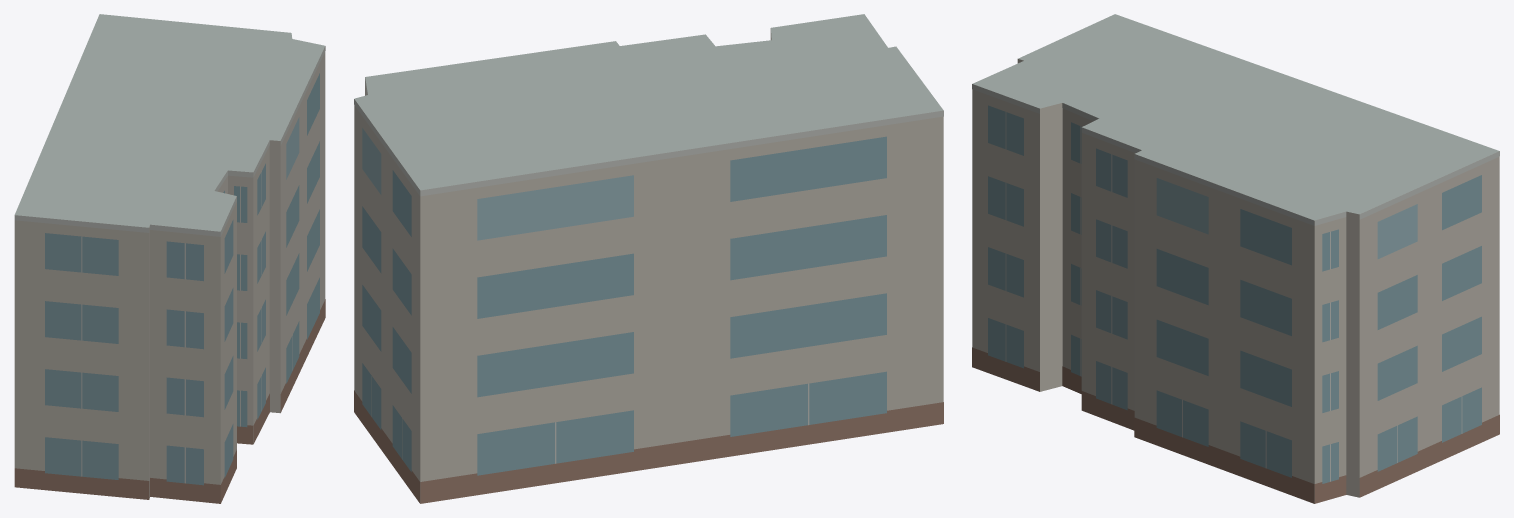
File: survey-upis-32971170.glb
The picture shows the model from 3 angles, left to right: view 1: azimuth 30°, elevation 25°; view 2: azimuth 150°, elevation 25°; view 3: azimuth 270°, elevation 25°; orthographic projection. The views are drawn at different scales.
Visible parts, largest first — view 1: survey-upis-32971170.tmp; view 2: survey-upis-32971170.tmp; view 3: survey-upis-32971170.tmp.
Part boxes in pixels (box(x1,y1,x2,y2)): survey-upis-32971170.tmp: box(14, 14, 325, 503); survey-upis-32971170.tmp: box(354, 14, 943, 503); survey-upis-32971170.tmp: box(972, 14, 1499, 503).
Bounding box in the file's own units: 20.03 × 12.8 × 21.61.
